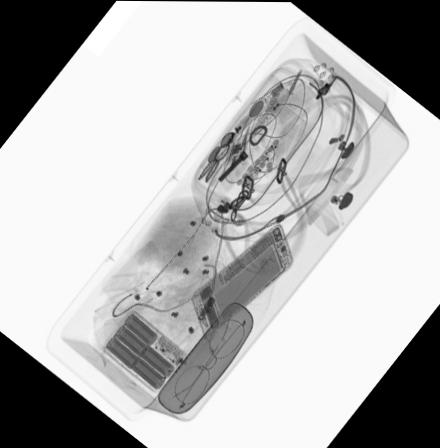Powerbank: (96, 305, 188, 397)
